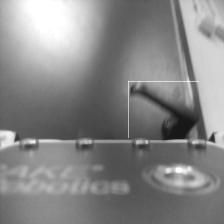Door Handle: (128, 81, 199, 138)
